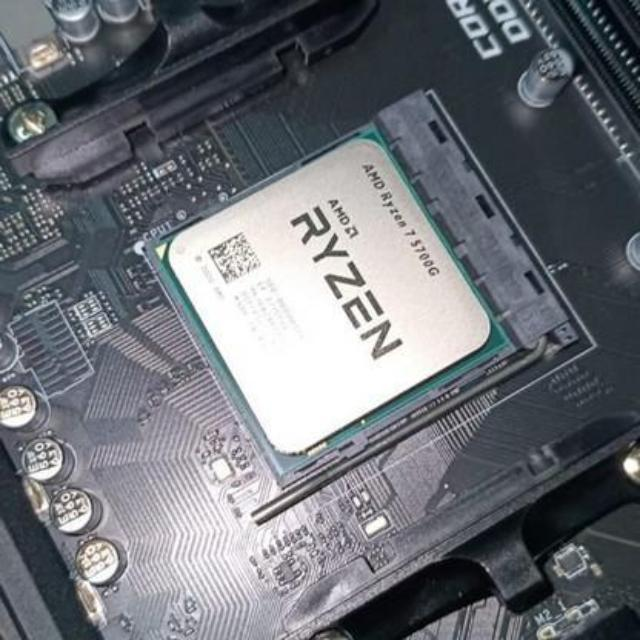CPU: (162, 116, 506, 470)
